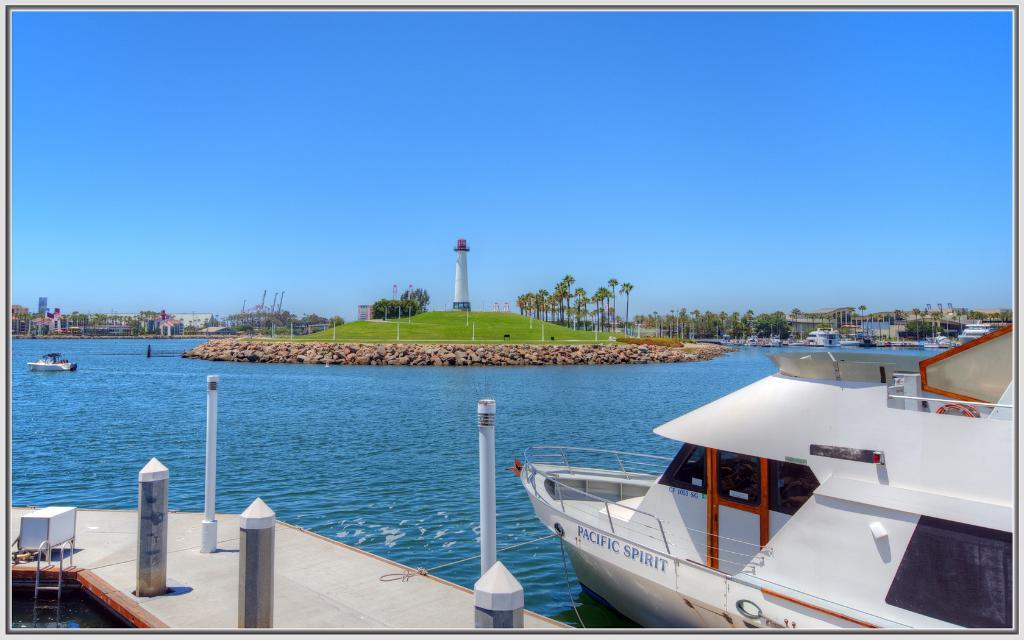PassengerShip: (498, 327, 1014, 625)
